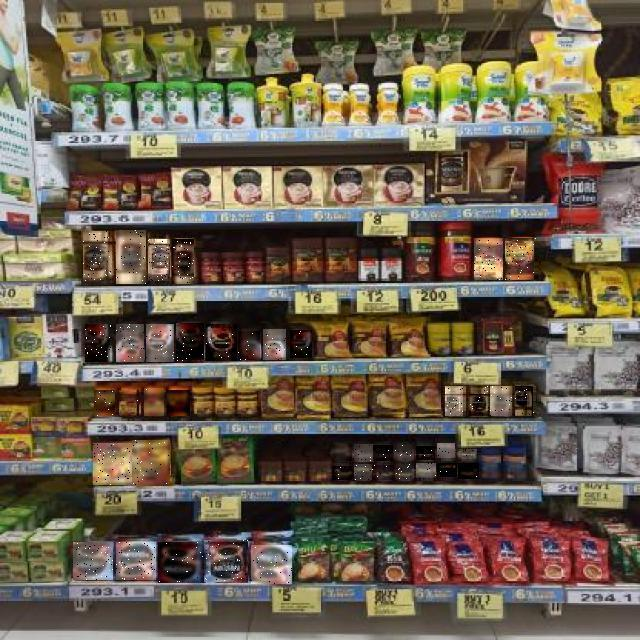Coffee: (204, 540, 248, 583), (158, 542, 204, 583), (133, 440, 171, 486), (93, 443, 132, 485), (116, 231, 146, 285), (251, 545, 292, 584), (116, 542, 156, 580), (73, 542, 113, 580), (84, 231, 112, 284), (506, 238, 538, 280), (474, 238, 503, 280), (206, 324, 237, 361), (176, 324, 204, 362), (116, 324, 144, 362), (146, 324, 174, 362), (172, 239, 194, 284), (86, 324, 112, 362), (148, 240, 170, 284), (263, 329, 286, 360), (491, 387, 513, 417), (238, 331, 260, 360), (290, 330, 312, 358), (516, 386, 536, 416), (469, 387, 489, 417), (446, 387, 466, 417), (167, 390, 190, 416), (144, 389, 164, 417), (94, 390, 115, 416), (119, 390, 139, 416), (354, 444, 374, 462), (333, 444, 353, 461), (458, 463, 479, 479), (372, 465, 394, 480), (373, 445, 393, 461), (437, 464, 457, 480), (416, 464, 436, 480), (332, 466, 354, 480), (394, 445, 414, 460), (437, 444, 455, 460), (397, 465, 415, 481), (354, 465, 372, 481), (416, 446, 435, 460), (458, 449, 476, 459)
